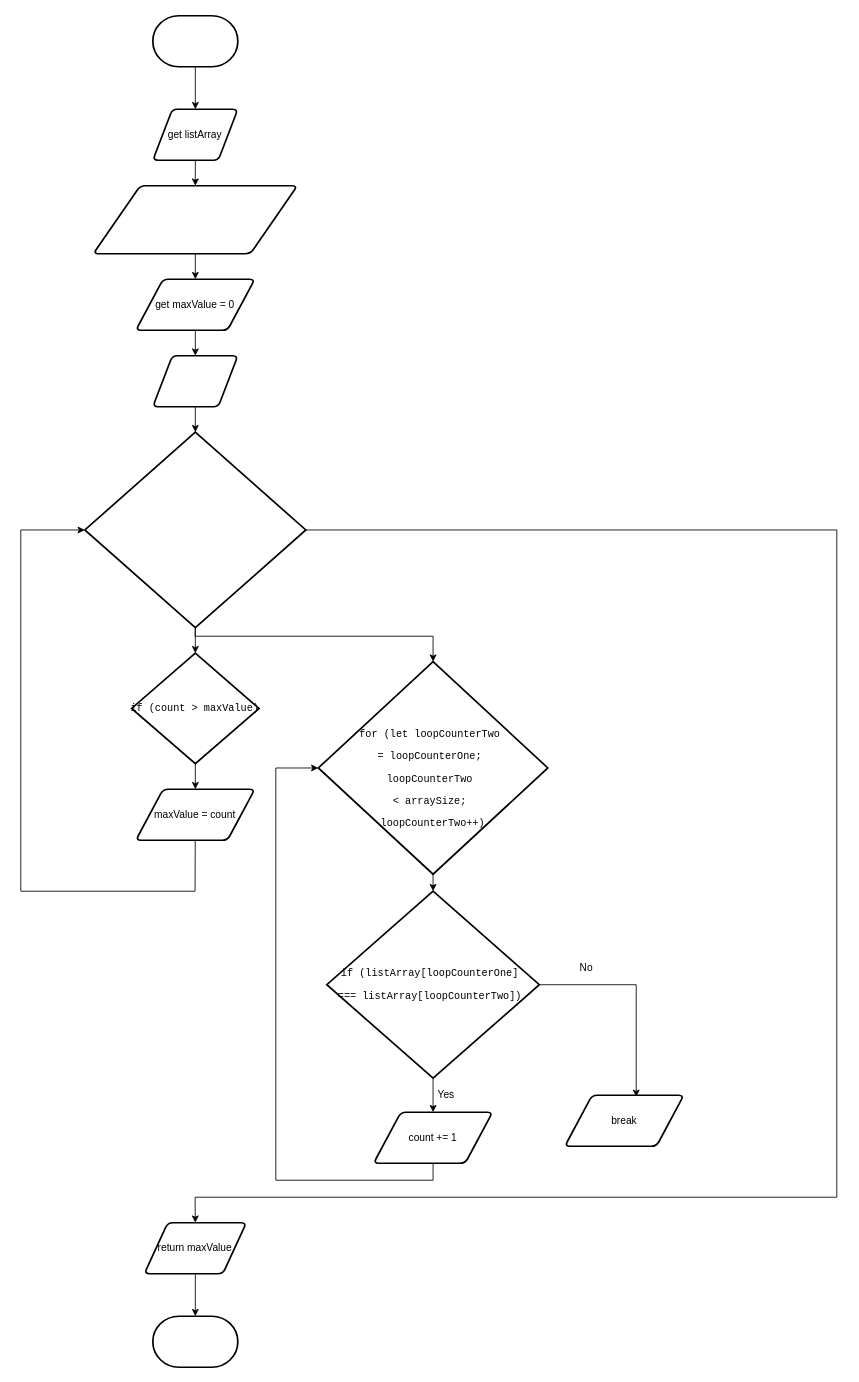
The diagram is 859 pixels wide and 1382 high, and some of its shapes have lost their labels. Here are the shapes that lost their labels. From the top down, the centre of each, then its label:
At pixel 195 40: "Start".
At pixel 195 219: "get arraySize = listArray.length".
At pixel 195 380: "get count = 0".
At pixel 195 529: "for (let loopCounterOne = 0; loopCounterOne < arraySize; loopCounterOne++)".
At pixel 195 1341: "Stop".
